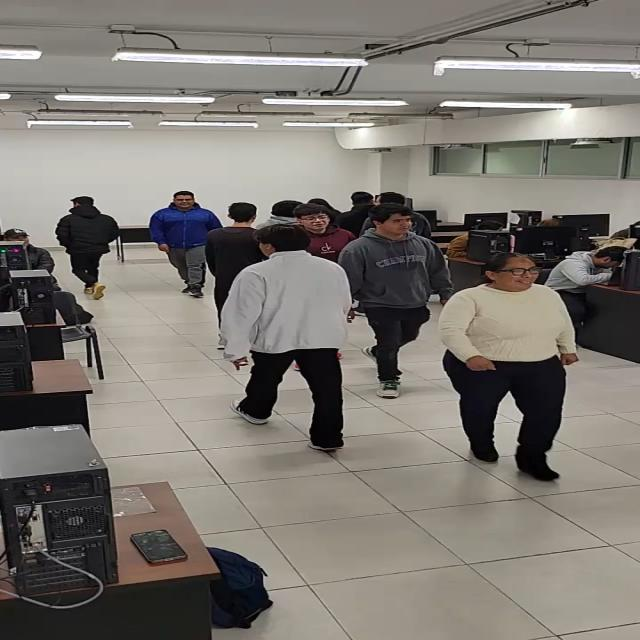Persona: (444, 252, 588, 478), (230, 227, 362, 453), (359, 203, 445, 394), (59, 196, 129, 305), (157, 192, 212, 306), (294, 207, 350, 252), (223, 202, 257, 271)
